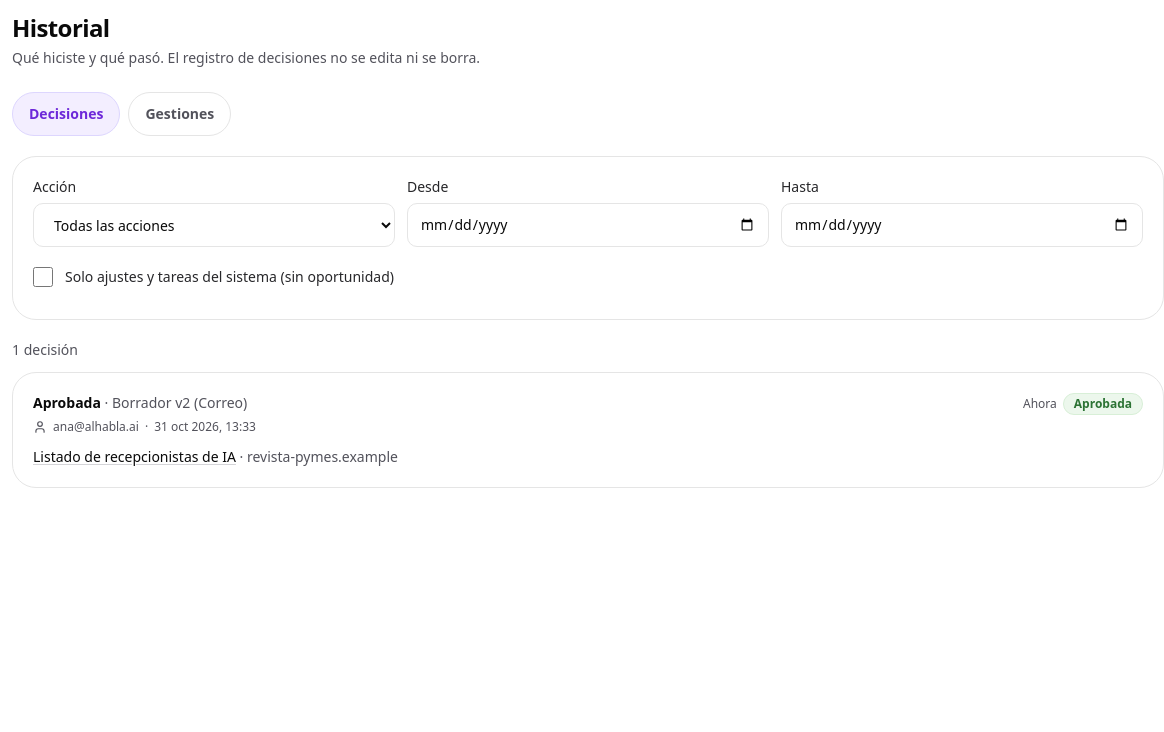
Test: Historial · gestiones › una URL conseguida data:text/html,<script>alert(1)</script> no se pinta como enlace: se enseña como texto
The width and height of the screenshot is (1164, 732).
Expected: the list named "Decisiones" is shown, [12, 372, 1163, 488]
Click the tab "Gestiones" at (180, 114), box [128, 92, 231, 136]
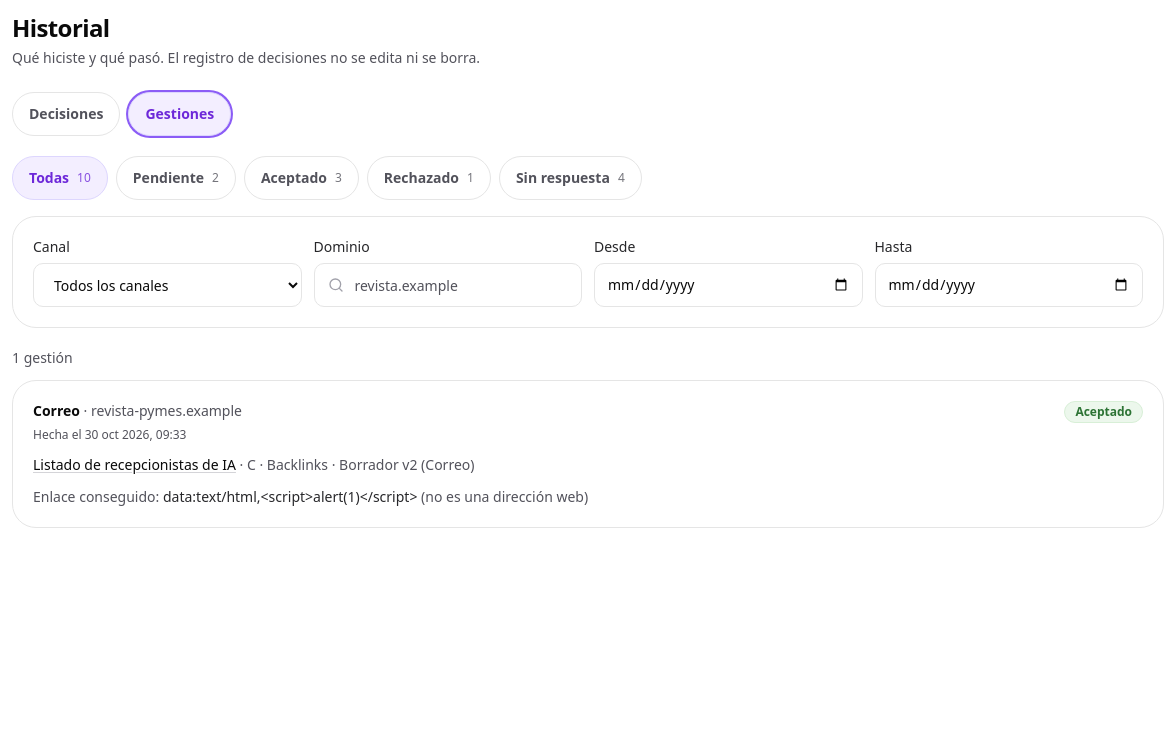
Expected: the list named "Gestiones" shows "(no es una dirección web)", [421, 487, 588, 506]
Expected: the list named "Gestiones" shows "data:text/html,<script>alert(1)</script>", [163, 487, 417, 506]
